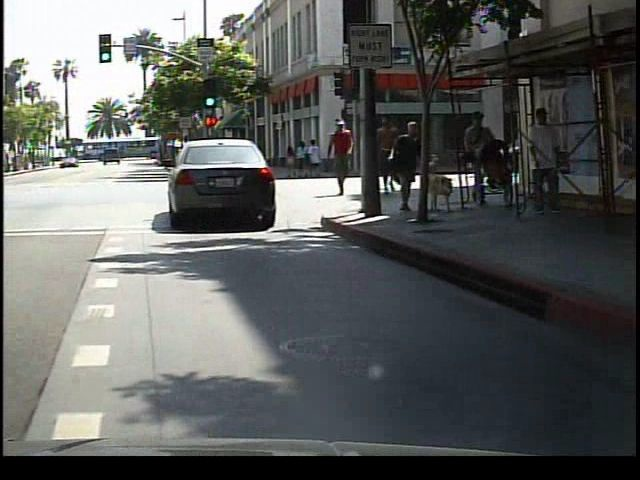person: (370, 109, 403, 200), (326, 114, 361, 199)
